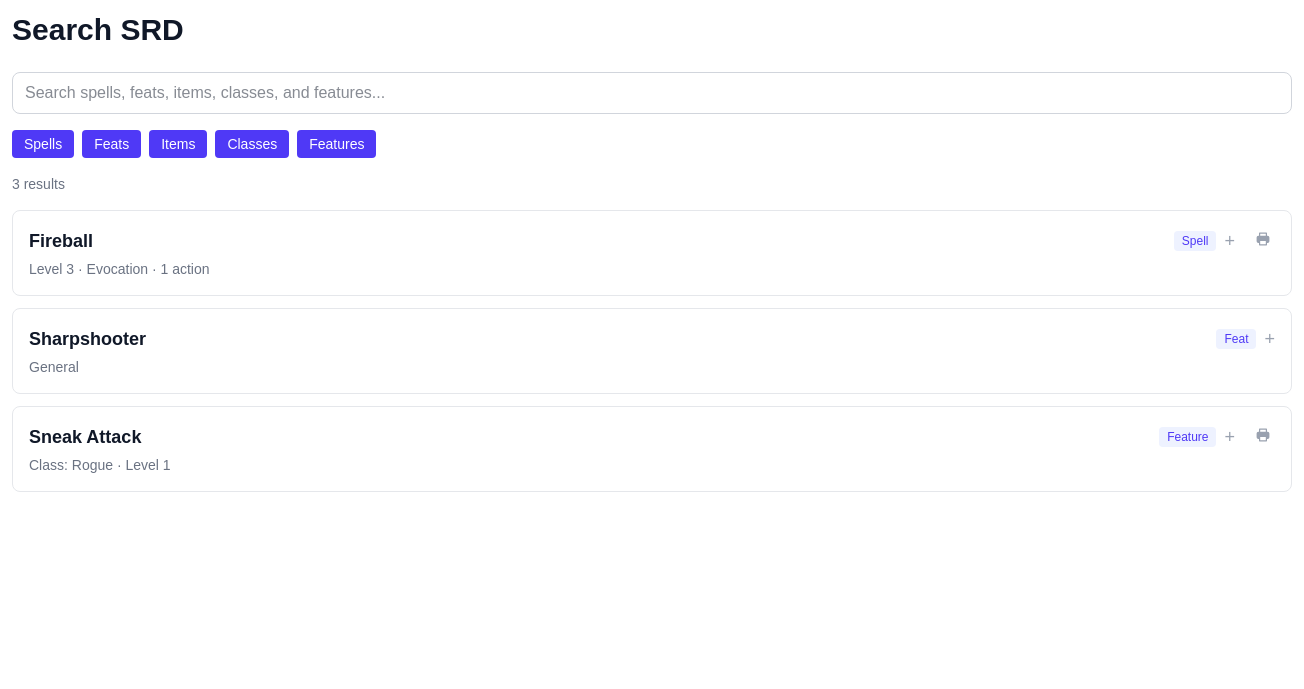
Test: SrdSearchPage › expand on click — spell › shows spell description, range, components, duration when expanded
Click the heading "Fireball".
click(61, 241)  # box x1=29 y1=231 x2=93 y2=251
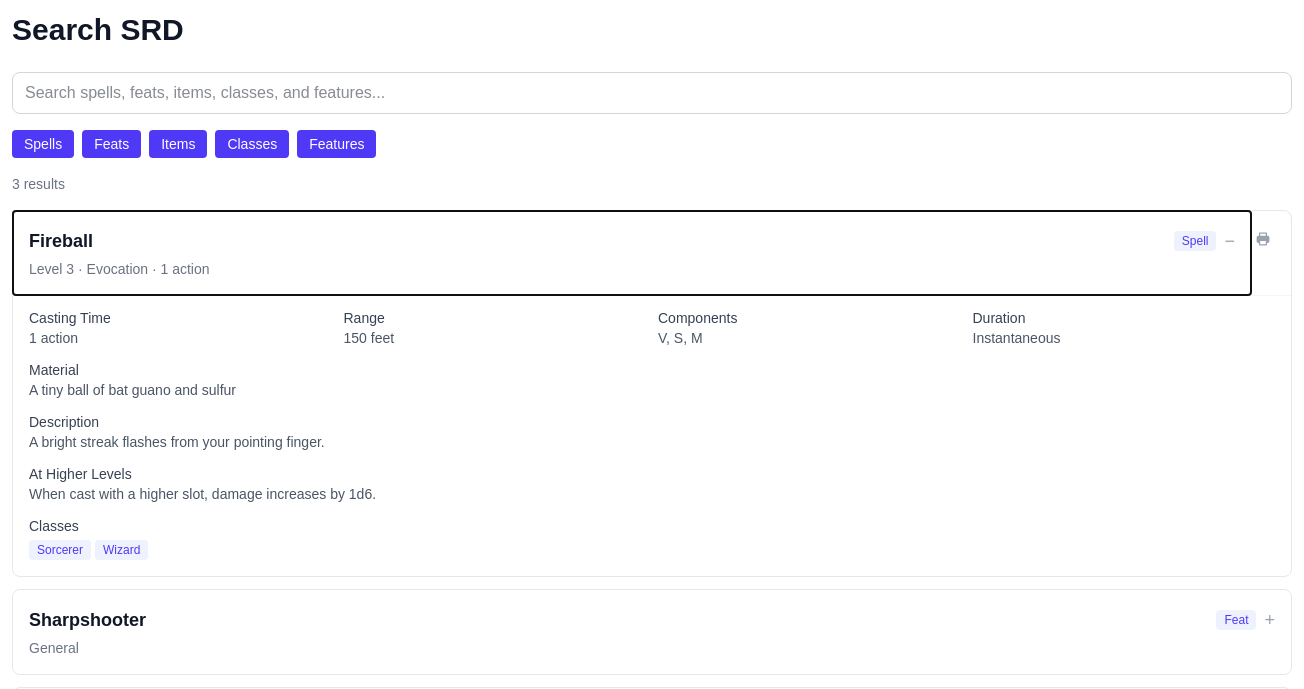
Expected: the text "A bright streak flashes from your pointing finger." is shown, x1=29 y1=434 x2=325 y2=450
Expected: the text "150 feet" is shown, x1=344 y1=330 x2=394 y2=346
Expected: the text "V, S, M" is shown, x1=658 y1=330 x2=703 y2=346
